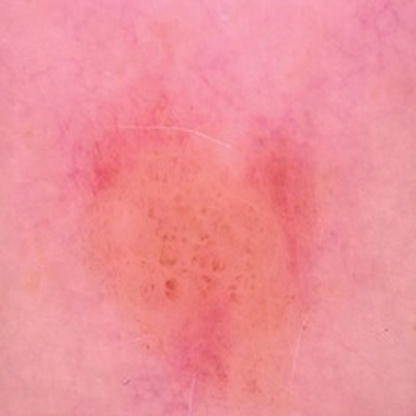benign: (112, 145, 296, 367)
